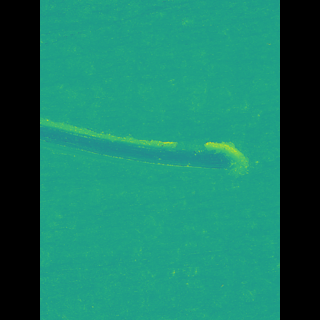Loch: (69, 112, 230, 180)
